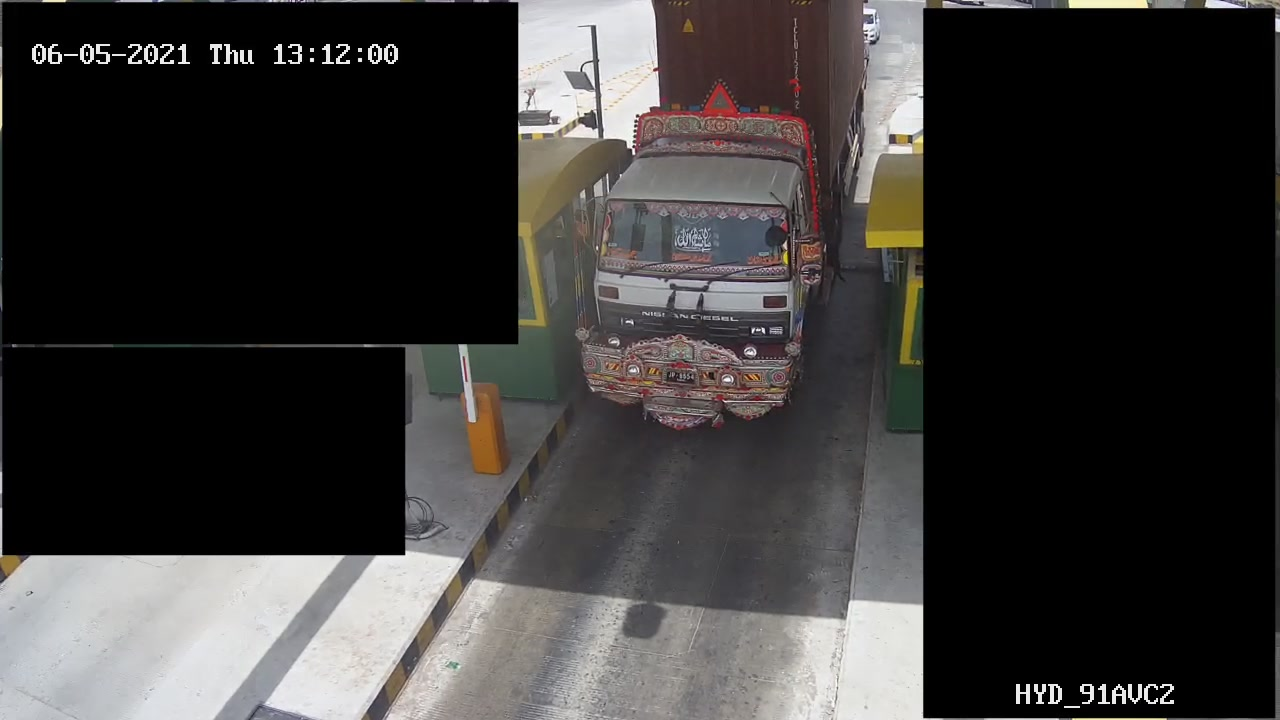F6: (569, 1, 873, 457)
